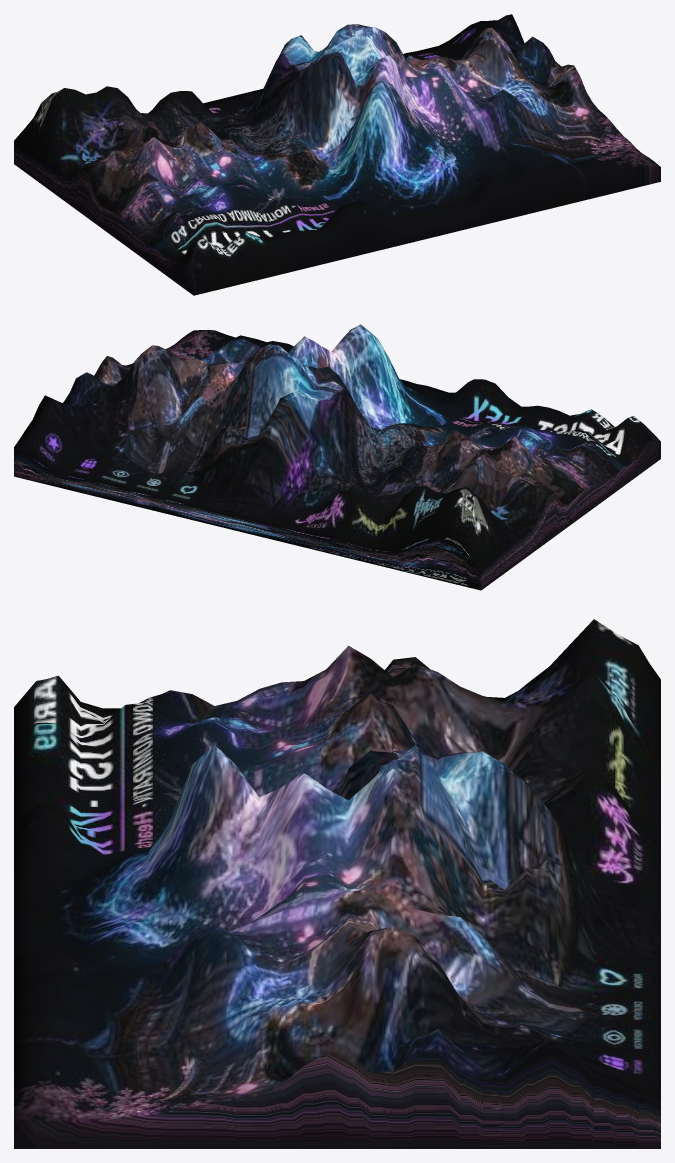
The model's file is CAREER_09_VFX_04_Crowd.glb.
3 renders of one model, top to bottom at view 1: azimuth 30°, elevation 25°; view 2: azimuth 150°, elevation 25°; view 3: azimuth 270°, elevation 25°, orthographic. The views are drawn at different scales.
Visible parts, largest first — view 1: CAREER_09_VFX_04_Crowd; view 2: CAREER_09_VFX_04_Crowd; view 3: CAREER_09_VFX_04_Crowd.
Part boxes in pixels (box(x1,y1,x2,y2)): CAREER_09_VFX_04_Crowd: box(14, 14, 660, 295); CAREER_09_VFX_04_Crowd: box(14, 324, 660, 590); CAREER_09_VFX_04_Crowd: box(14, 619, 660, 1148).
Size of the model in its own units: 2 by 0.51 by 1.33.
1 material, 1 textured.
